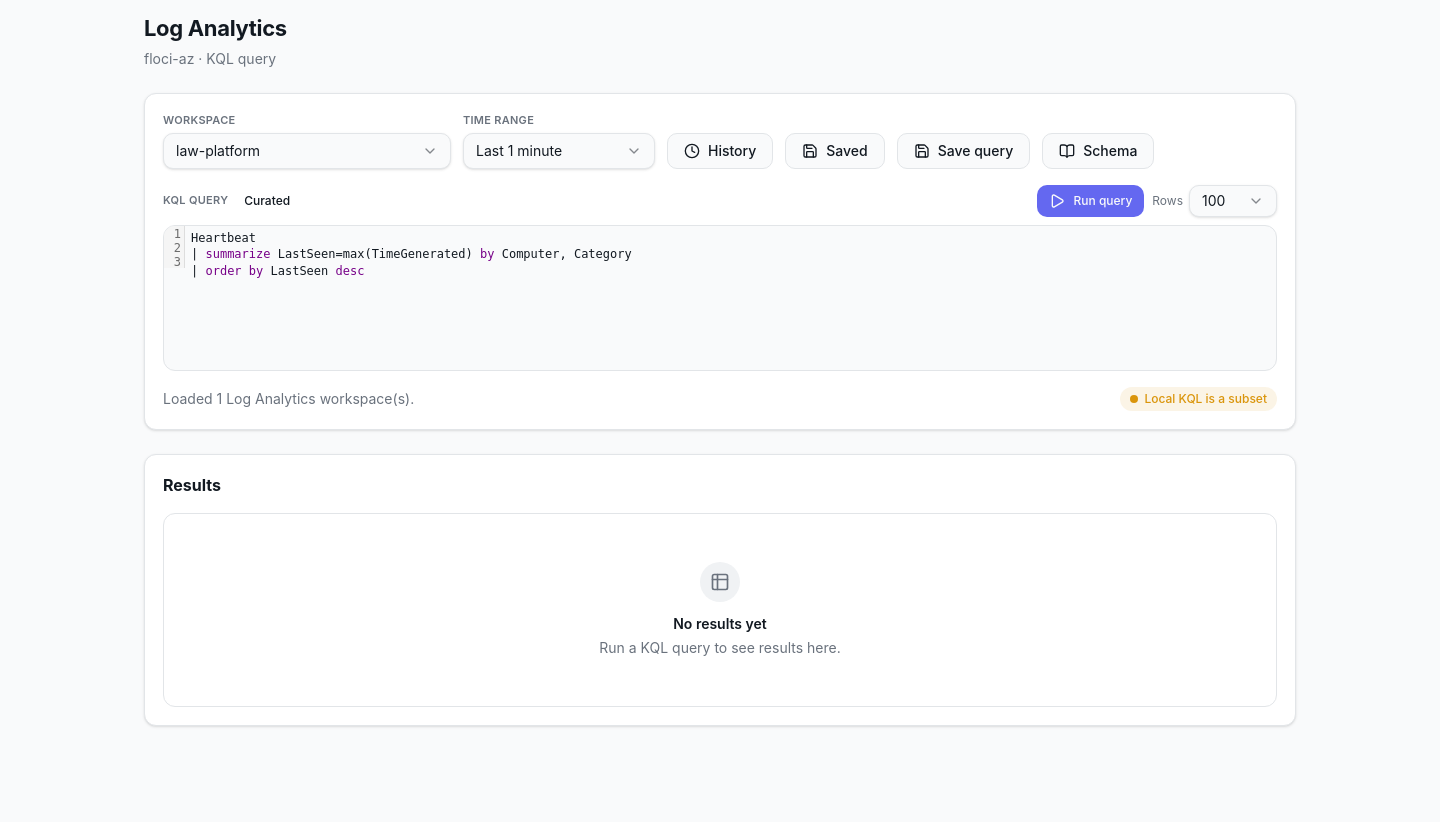
Test: LogAnalyticsView › surfaces a query error
Click the button "Run query".
click(1091, 200)  # box left=1038, top=184, right=1144, bottom=216
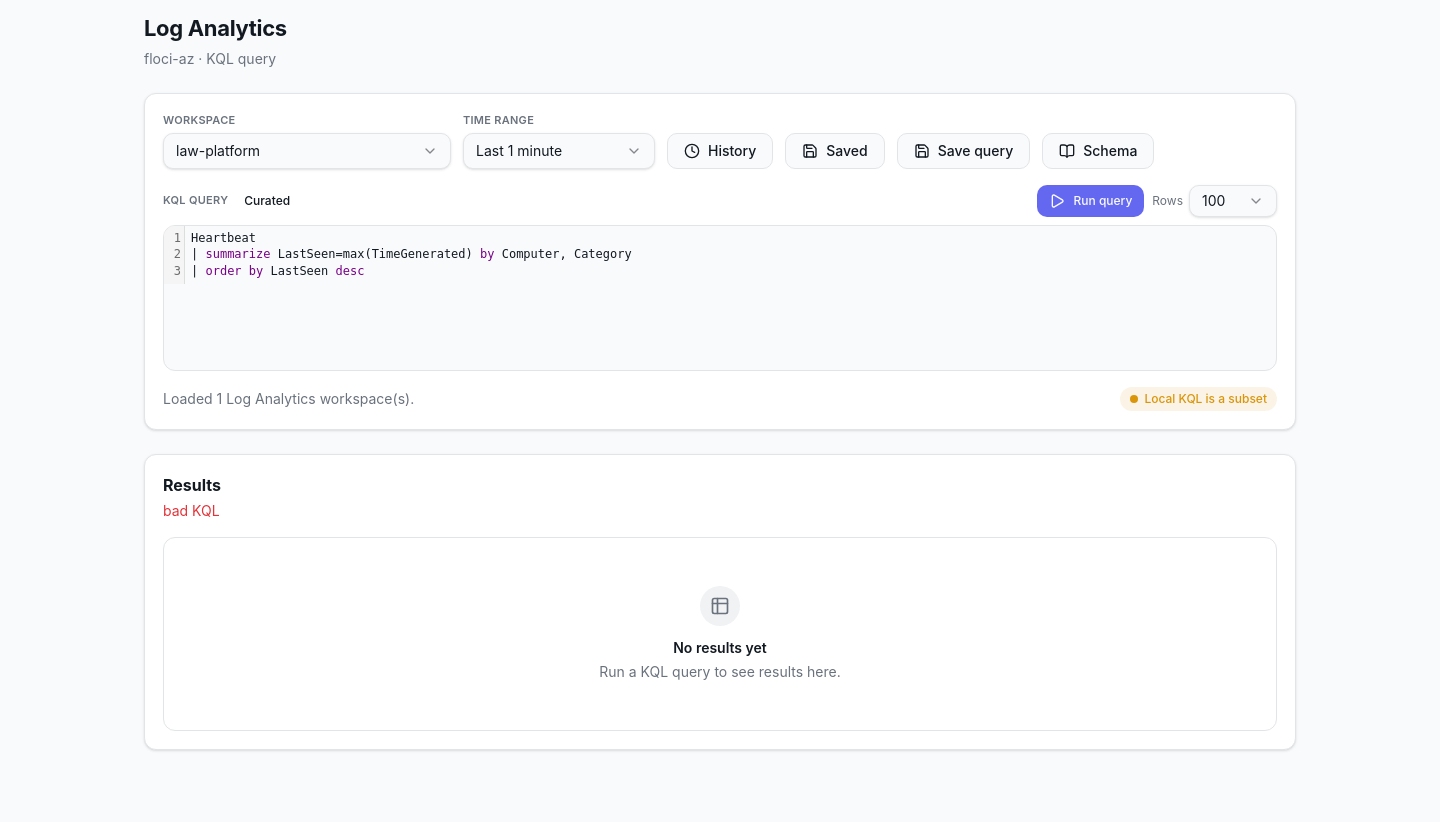
Now the text "bad KQL" is shown, box left=163, top=500, right=221, bottom=520
